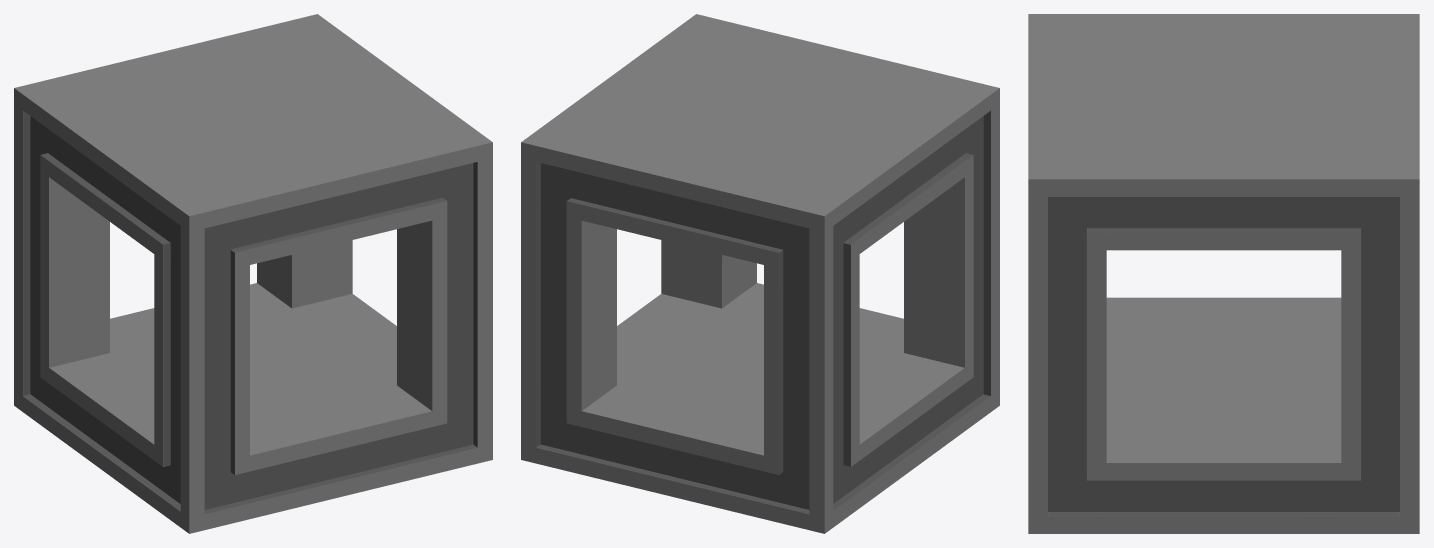
3 views of the same model, side by side, from view 1: azimuth 30°, elevation 25°; view 2: azimuth 150°, elevation 25°; view 3: azimuth 270°, elevation 25° (orthographic). The views are drawn at different scales.
Visible parts, largest first — view 1: Cube; view 2: Cube; view 3: Cube.
Boxes of the visible parts, <box> form: Cube: <box>14,14,492,533</box>; Cube: <box>521,14,999,533</box>; Cube: <box>1028,14,1419,533</box>.
Size of the model in its own units: 16 by 16 by 16.
1 material, 1 textured.
